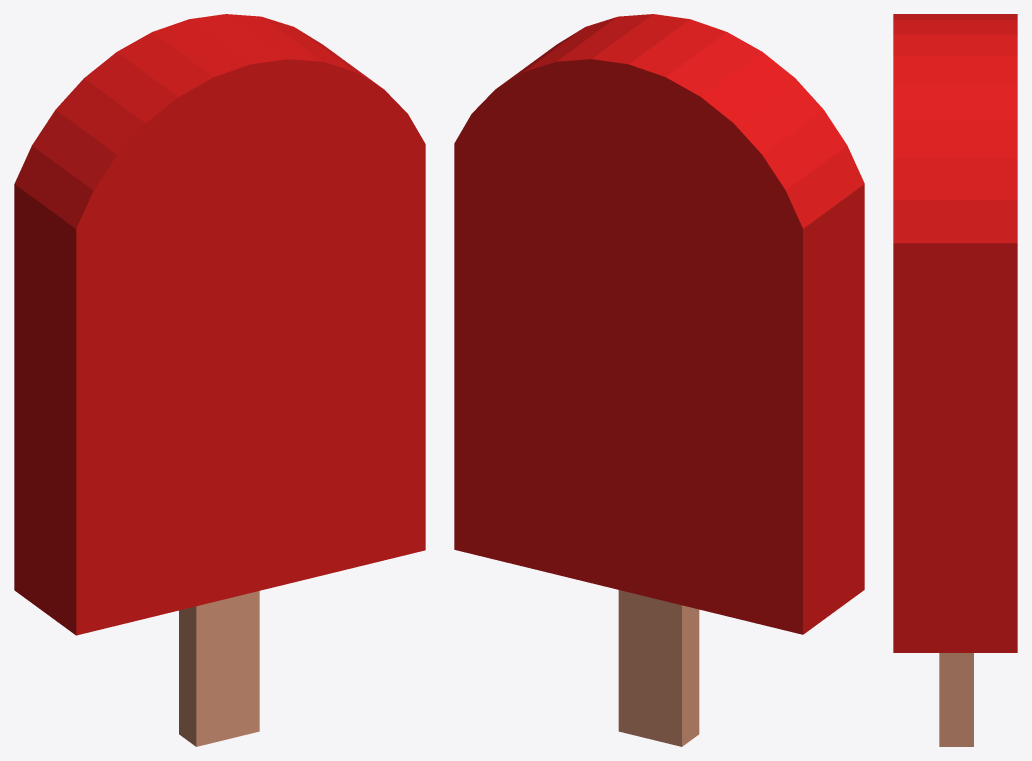
Rendered from ice2.glb.
3 views of the same model, side by side, from view 1: azimuth 30°, elevation 25°; view 2: azimuth 150°, elevation 25°; view 3: azimuth 270°, elevation 25° (orthographic).
Parts seen in each view (by area): view 1: Circle, Cube; view 2: Circle, Cube; view 3: Circle, Cube.
Part boxes in pixels (x1,y1,x2,y2): Circle: [14, 14, 425, 635]; Cube: [179, 591, 259, 746]; Circle: [454, 14, 864, 634]; Cube: [618, 590, 699, 746]; Circle: [893, 14, 1017, 652]; Cube: [939, 653, 973, 746].
Bounding box in the file's own units: 0.3107 × 0.5877 × 0.0951.
